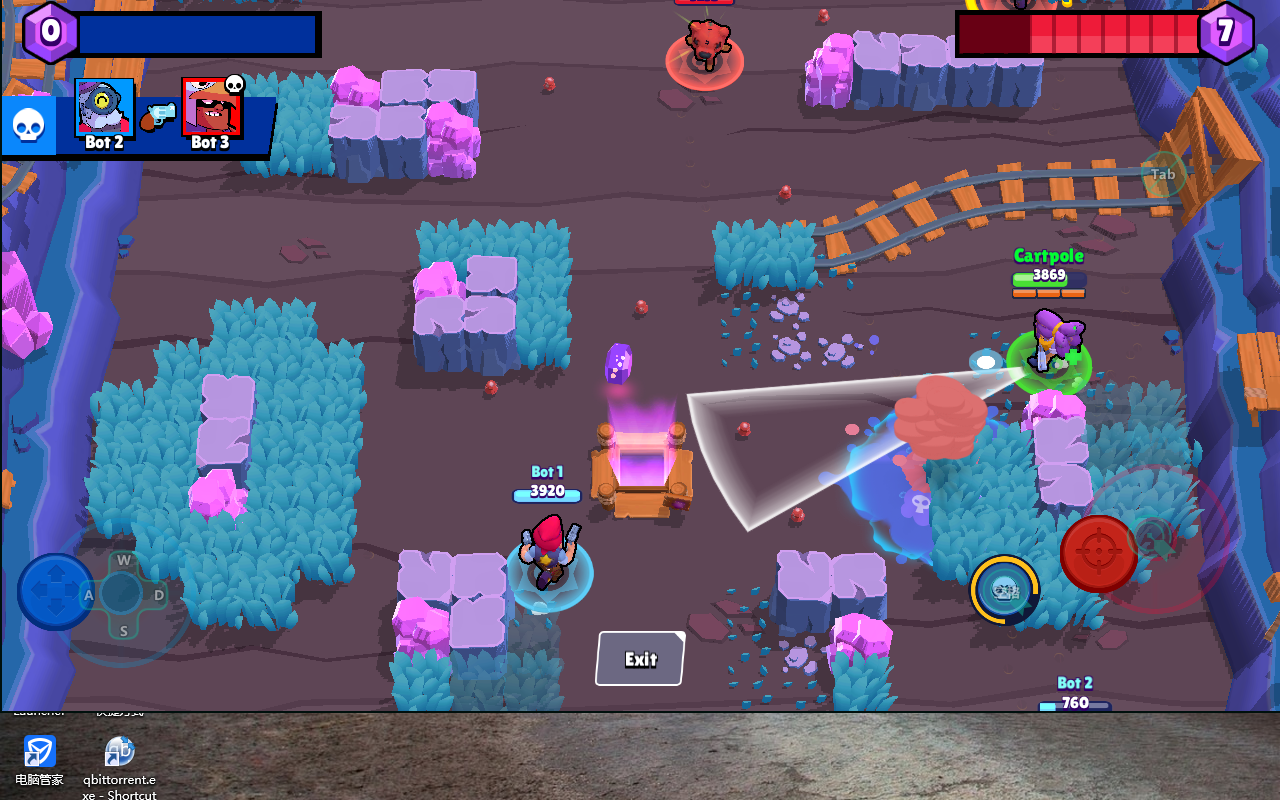current_player: (1003, 330, 1094, 396)
